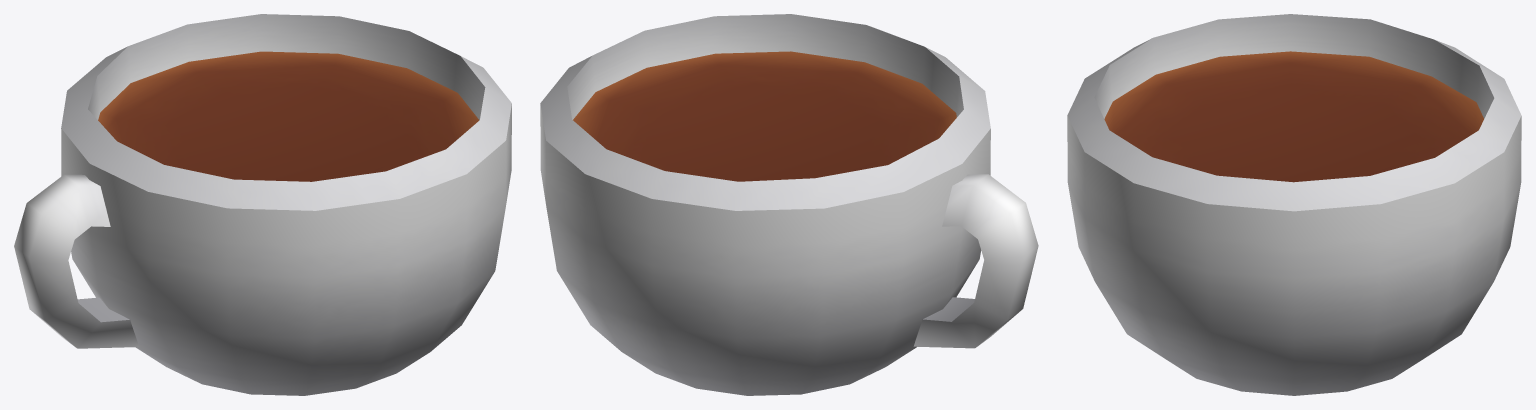
Rendered from m_Cup02_Coffee03.fbx.
3 views of the same model, side by side, from view 1: azimuth 30°, elevation 25°; view 2: azimuth 150°, elevation 25°; view 3: azimuth 270°, elevation 25° (orthographic).
Parts seen in each view (by area): view 1: m_Cup02_Coffee03; view 2: m_Cup02_Coffee03; view 3: m_Cup02_Coffee03.
Boxes of the visible parts, box(x1,y1,x2,y2) form: m_Cup02_Coffee03: box(14, 14, 511, 395); m_Cup02_Coffee03: box(540, 14, 1038, 395); m_Cup02_Coffee03: box(1067, 14, 1521, 395).
Size of the model in its own units: 14.87 by 7.38 by 12.68.
